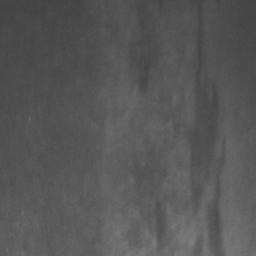Inclusion: (189, 76, 220, 214), (206, 206, 225, 256)
